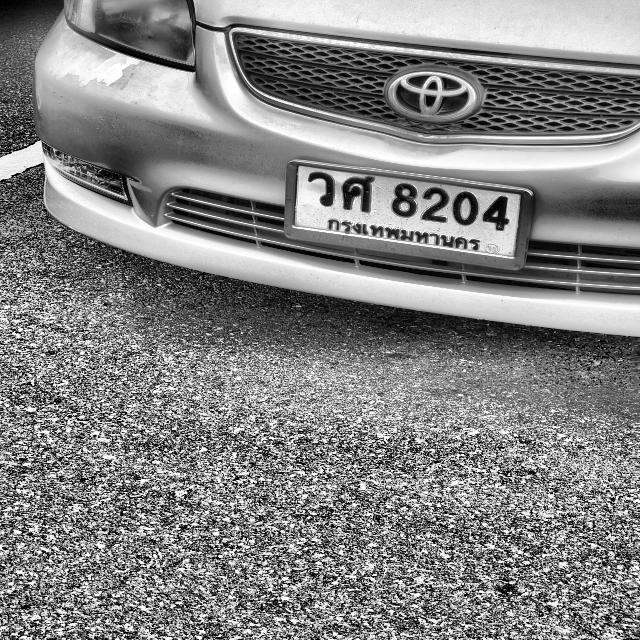license-plate: (286, 155, 536, 274)
